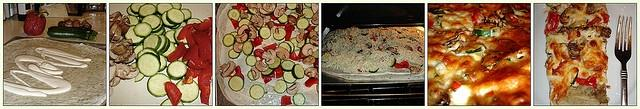bell pepper: (192, 30, 212, 62), (24, 12, 48, 36), (168, 41, 188, 62), (165, 82, 182, 106), (544, 12, 560, 35), (183, 44, 199, 62), (185, 26, 198, 46), (188, 57, 208, 70), (576, 76, 597, 88), (192, 20, 212, 31), (200, 86, 210, 106), (261, 70, 275, 84), (586, 16, 602, 27), (228, 66, 242, 78), (184, 68, 194, 84), (253, 48, 264, 61), (305, 78, 318, 88), (274, 66, 284, 78), (230, 18, 240, 30), (262, 44, 276, 52), (474, 29, 490, 36), (466, 47, 482, 54), (281, 96, 292, 106), (473, 8, 480, 23), (600, 13, 610, 23), (288, 52, 298, 60), (265, 22, 285, 26), (237, 4, 247, 12), (284, 23, 294, 31), (285, 30, 292, 41), (400, 60, 409, 68), (306, 26, 316, 32), (270, 14, 278, 20), (370, 36, 376, 42), (358, 69, 362, 72), (380, 29, 388, 30)
mushroom: (110, 38, 132, 54), (114, 46, 134, 63), (220, 61, 237, 78), (236, 24, 250, 43), (566, 43, 582, 58), (110, 24, 122, 44), (116, 63, 130, 80), (109, 19, 121, 38), (274, 46, 290, 60), (300, 43, 314, 58), (262, 49, 276, 64), (120, 16, 130, 36), (250, 14, 264, 28), (286, 82, 301, 94), (259, 4, 276, 14), (274, 4, 286, 18), (304, 67, 318, 79), (255, 60, 269, 72), (302, 55, 316, 65), (233, 42, 244, 54), (306, 31, 318, 41), (110, 11, 122, 21), (263, 3, 273, 12), (296, 32, 304, 43), (270, 26, 280, 34), (65, 21, 73, 27)
vegetable marrow: (136, 52, 160, 77), (176, 78, 200, 103), (47, 29, 97, 41), (48, 26, 98, 37), (147, 74, 172, 96), (124, 26, 145, 46), (166, 60, 186, 79), (166, 8, 184, 26), (143, 34, 162, 50), (142, 14, 160, 30), (134, 22, 152, 38), (138, 47, 160, 60), (131, 62, 145, 82), (161, 42, 176, 59), (138, 4, 156, 18), (174, 26, 188, 44), (228, 76, 244, 91), (250, 84, 264, 100), (156, 4, 174, 16), (157, 34, 167, 54), (159, 36, 170, 54), (292, 92, 306, 106), (274, 80, 288, 94), (268, 56, 282, 70), (160, 98, 184, 106), (281, 59, 295, 72), (282, 71, 296, 84), (258, 26, 271, 40), (282, 40, 295, 54), (273, 27, 286, 41), (292, 63, 304, 78), (242, 41, 254, 56), (130, 4, 147, 14), (222, 34, 235, 47), (165, 30, 177, 44), (278, 42, 292, 54), (180, 8, 192, 22), (158, 54, 167, 72), (245, 55, 258, 67), (296, 18, 309, 30), (261, 64, 274, 76), (228, 8, 240, 21), (126, 15, 140, 26), (290, 37, 300, 51), (302, 8, 314, 19), (238, 18, 250, 28), (228, 49, 240, 59), (278, 13, 288, 24), (186, 18, 202, 24), (247, 70, 256, 80), (288, 12, 299, 19), (171, 4, 182, 10), (286, 4, 297, 10), (230, 31, 238, 38), (369, 68, 379, 73), (305, 37, 310, 44), (304, 4, 312, 8), (314, 25, 318, 32)
